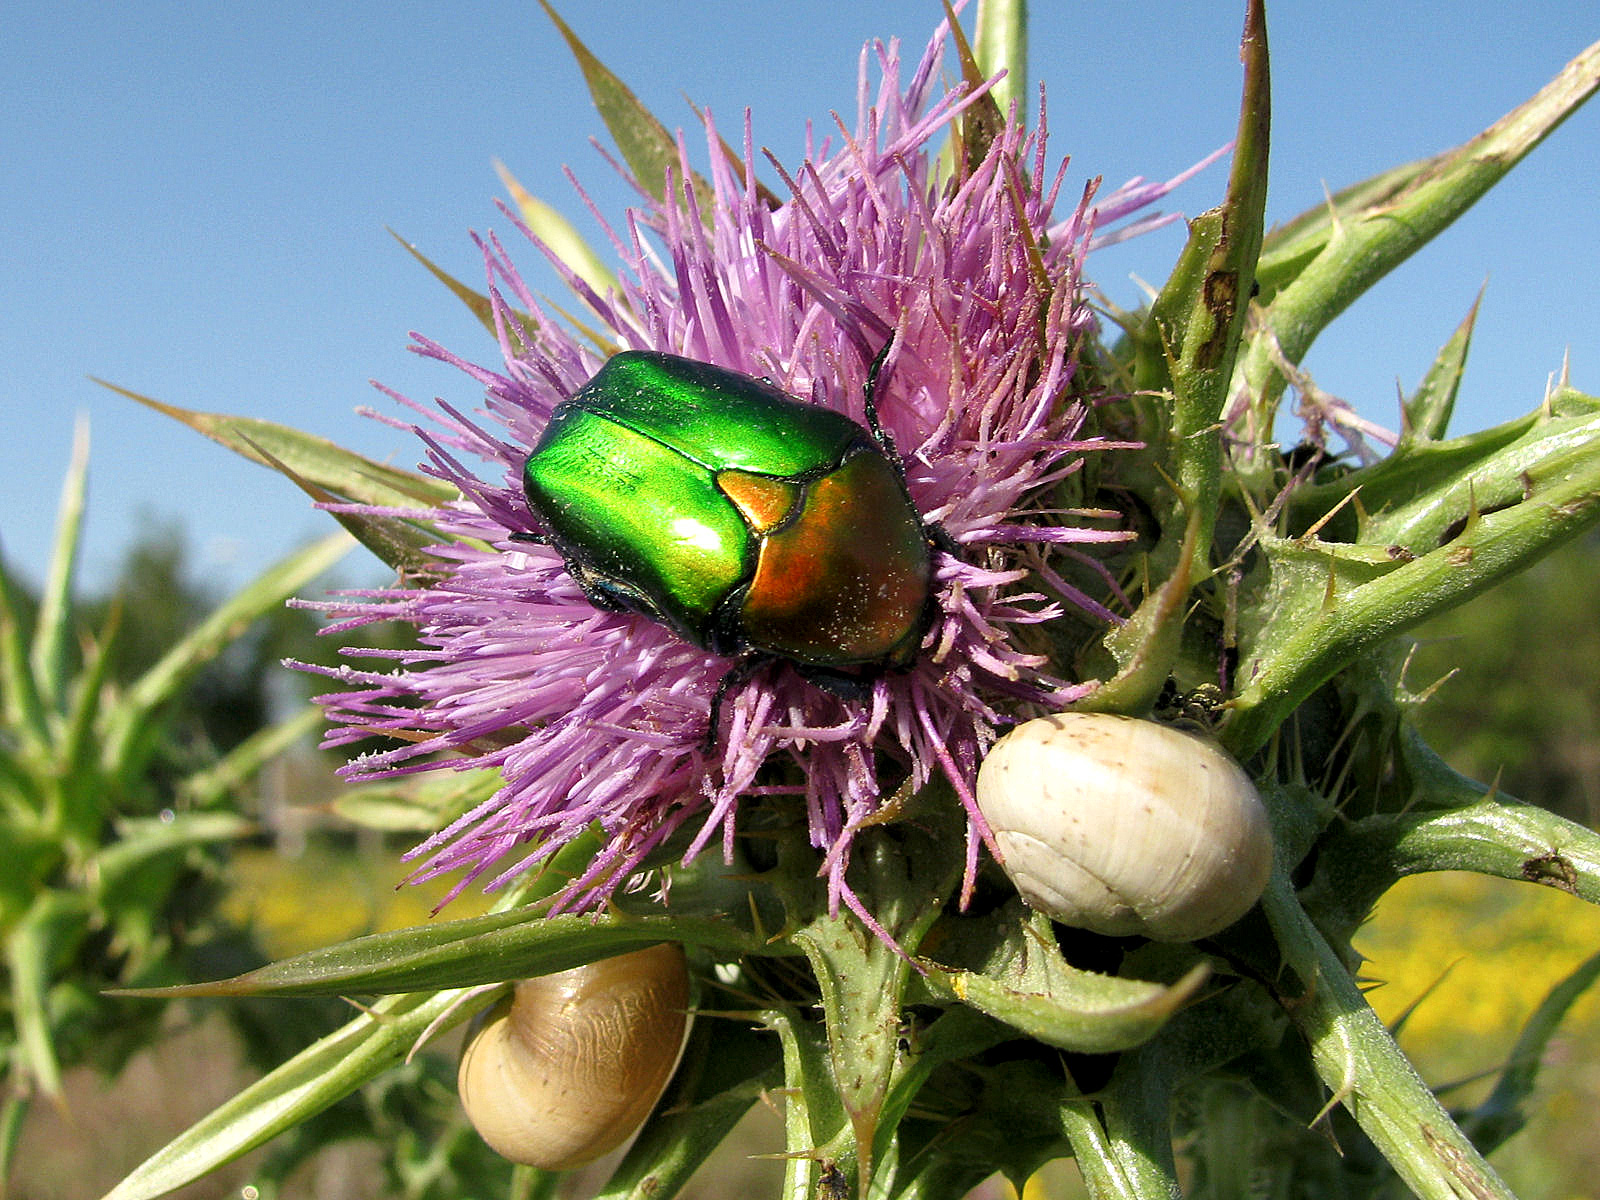Protaetia_cuprea_ignicollis: (509, 324, 936, 696)
